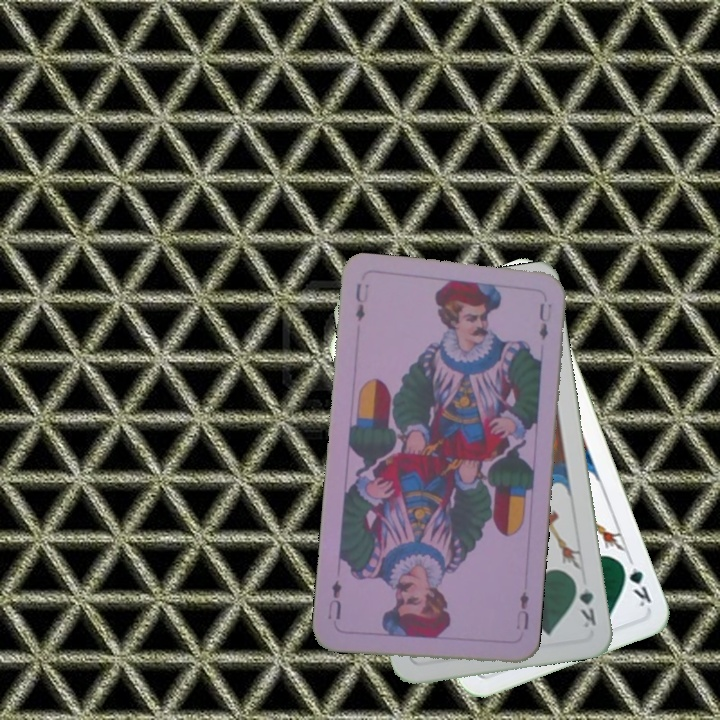EU: (351, 279, 372, 324), (512, 587, 532, 632)
GK: (617, 557, 654, 610), (570, 574, 599, 631)
